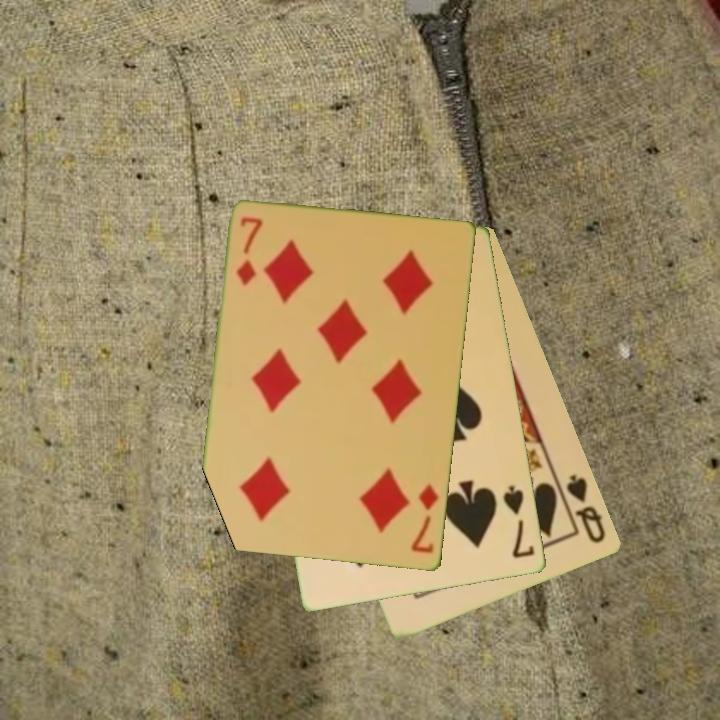7d: (408, 481, 442, 557), (233, 214, 266, 289)
7s: (500, 482, 538, 561)
Qs: (563, 470, 609, 547)
